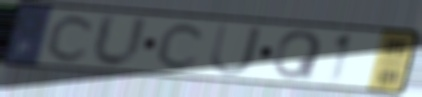1: (327, 31, 360, 87)
C: (44, 13, 99, 64), (154, 21, 209, 72)
Q: (270, 29, 325, 81)
U: (89, 11, 151, 70), (207, 21, 265, 78)
